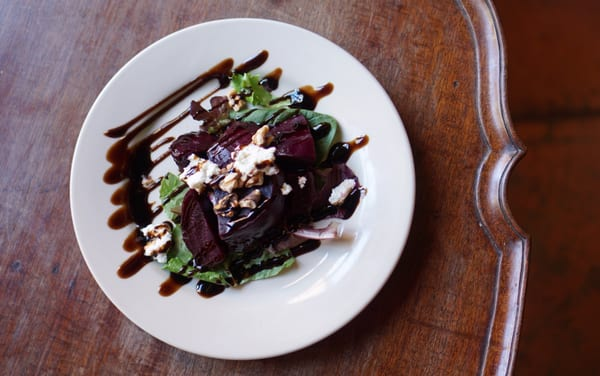curry: (2, 1, 531, 373)
